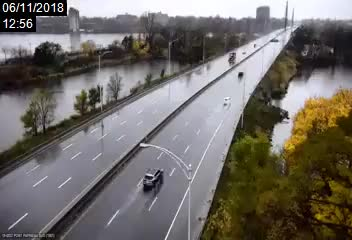personal_car: (139, 163, 166, 192), (222, 95, 230, 107), (237, 70, 244, 77)
truck: (226, 51, 237, 64)
